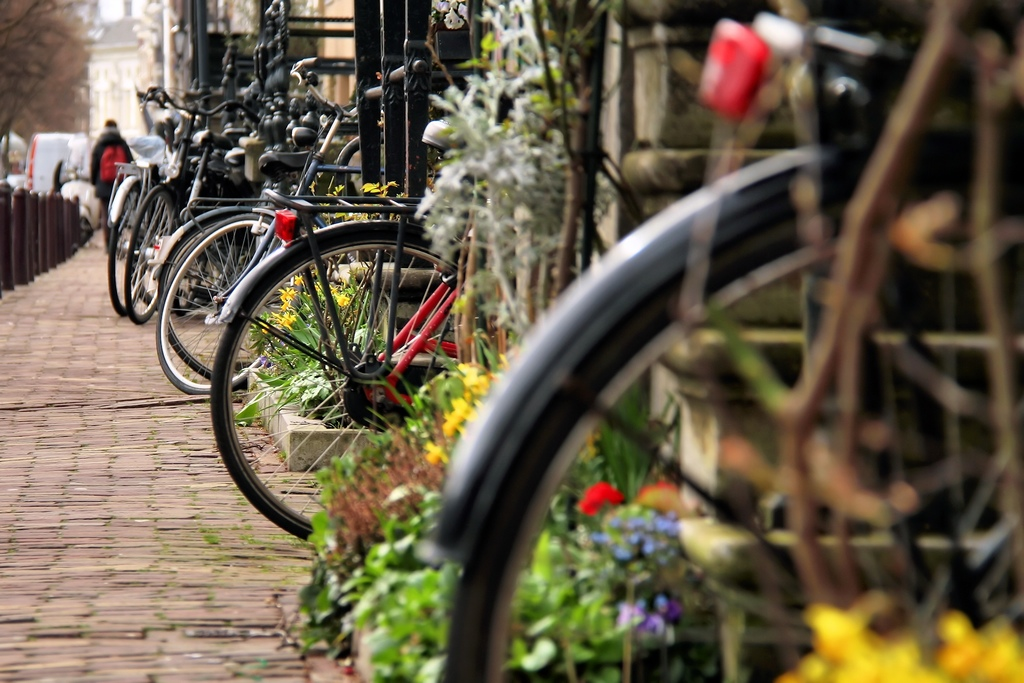Wheel: (443, 173, 1023, 682), (205, 215, 479, 538), (106, 180, 299, 397)
